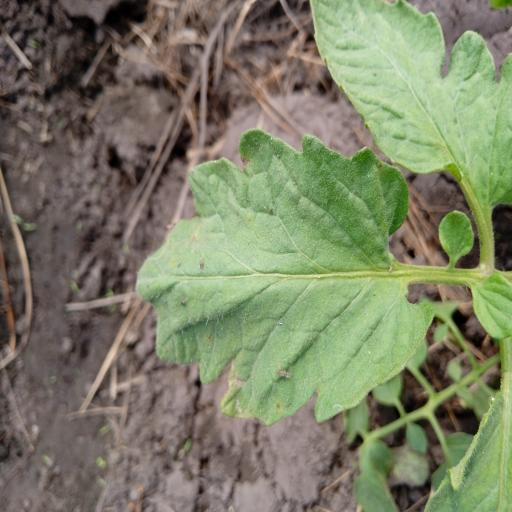Tomato_Brown_Spots: (138, 124, 430, 432), (308, 0, 512, 212)
